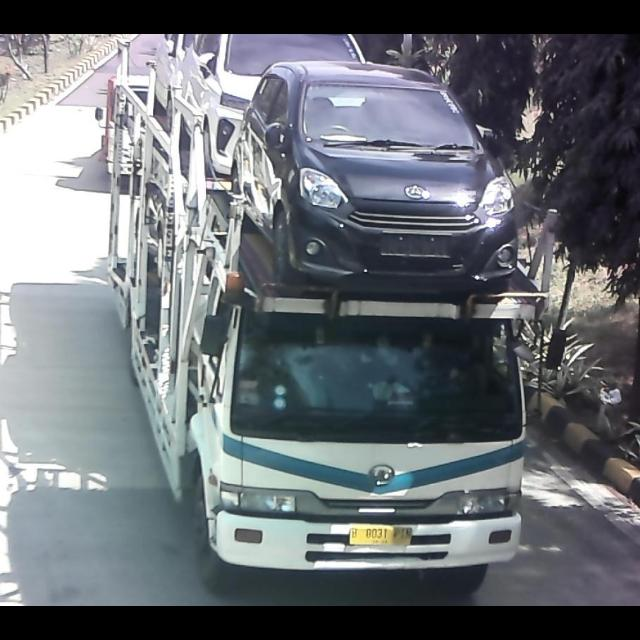plate: (344, 522, 418, 548)
